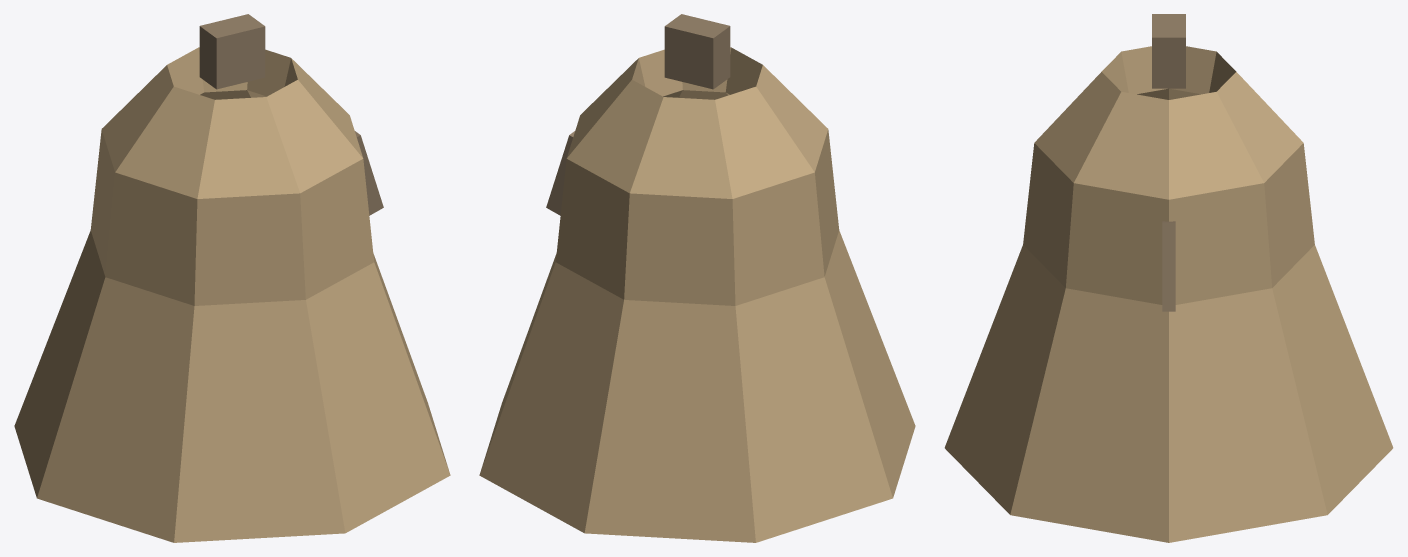
Rendered from prop-bell-blank-bf1.fbx.
The picture shows the model from 3 angles, left to right: view 1: azimuth 30°, elevation 25°; view 2: azimuth 150°, elevation 25°; view 3: azimuth 270°, elevation 25°; orthographic projection.
Parts seen in each view (by area): view 1: prop-bell-blank-bf1; view 2: prop-bell-blank-bf1; view 3: prop-bell-blank-bf1.
Part boxes in pixels (x1=…): prop-bell-blank-bf1: x1=14, y1=14, x2=450, y2=542; prop-bell-blank-bf1: x1=479, y1=14, x2=915, y2=542; prop-bell-blank-bf1: x1=944, y1=14, x2=1393, y2=542.
Size of the model in its own units: 40 by 41.5 by 40.
